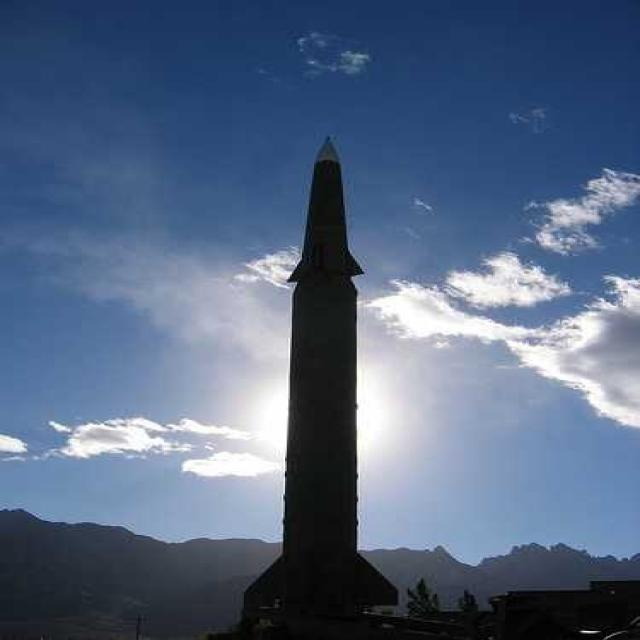missile: (251, 136, 398, 624)
